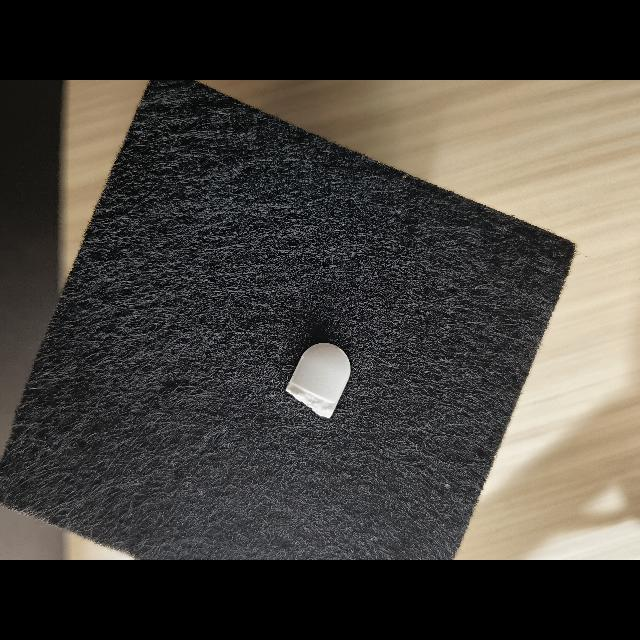Chipped Pill: (286, 343, 351, 418)
